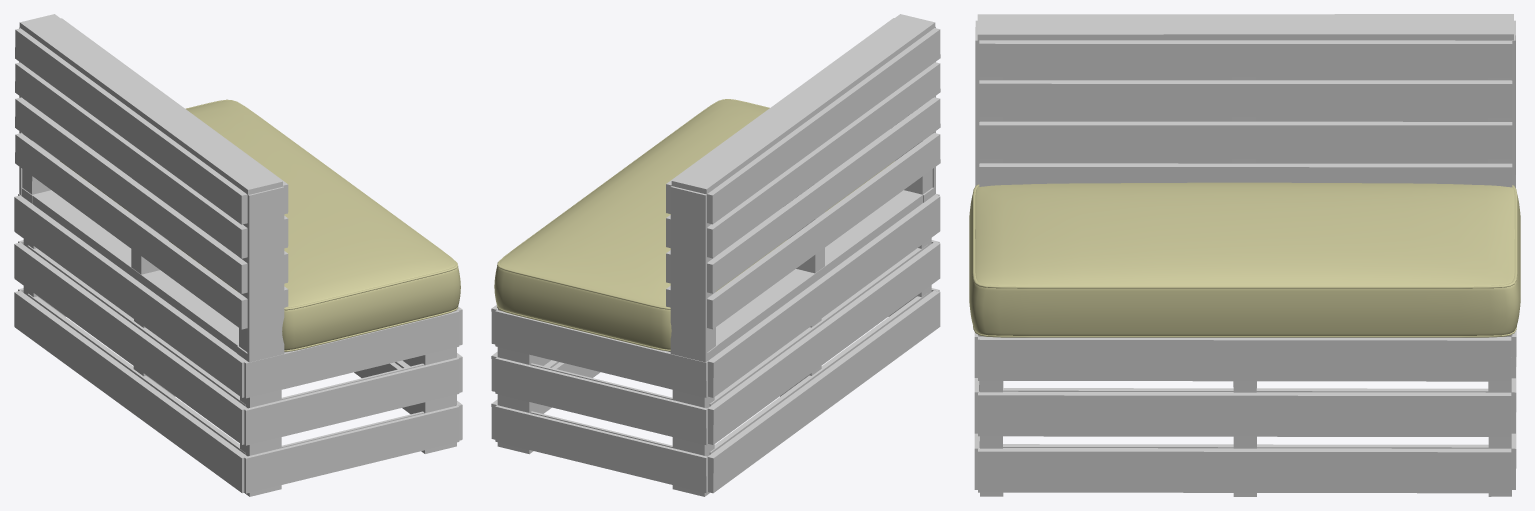
File: sofaCushionsSetSingle.glb
3 renders of one model, left to right at view 1: azimuth 30°, elevation 25°; view 2: azimuth 150°, elevation 25°; view 3: azimuth 270°, elevation 25°, orthographic. The views are drawn at different scales.
Parts seen in each view (by area): view 1: bench, cushion, welting; view 2: bench, cushion, welting; view 3: bench, cushion, welting.
Boxes of the visible parts, x1=… form: bench: x1=14, y1=14, x2=462, y2=496; cushion: x1=60, y1=100, x2=460, y2=350; welting: x1=185, y1=99, x2=458, y2=351; bench: x1=491, y1=14, x2=940, y2=496; cushion: x1=494, y1=99, x2=894, y2=349; welting: x1=497, y1=99, x2=769, y2=351; bench: x1=974, y1=14, x2=1516, y2=496; cushion: x1=969, y1=182, x2=1520, y2=335; welting: x1=972, y1=184, x2=1517, y2=337.
Size of the model in its own units: 1.46 by 1.94 by 2.68.
